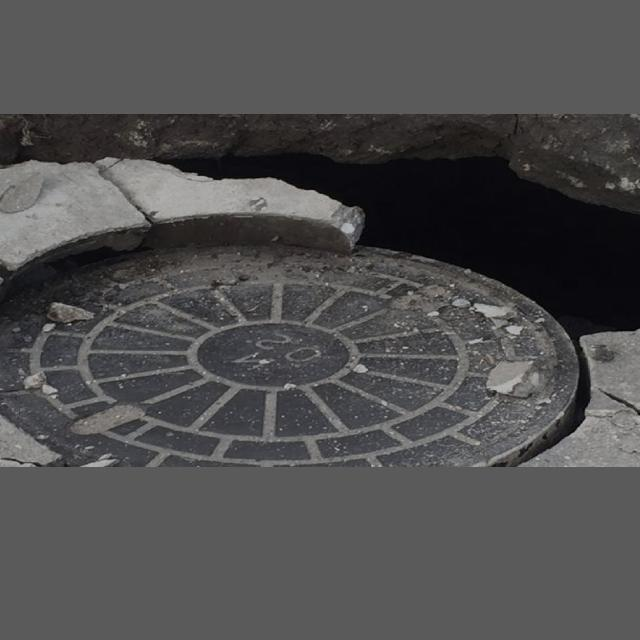circle: (0, 128, 640, 463)
